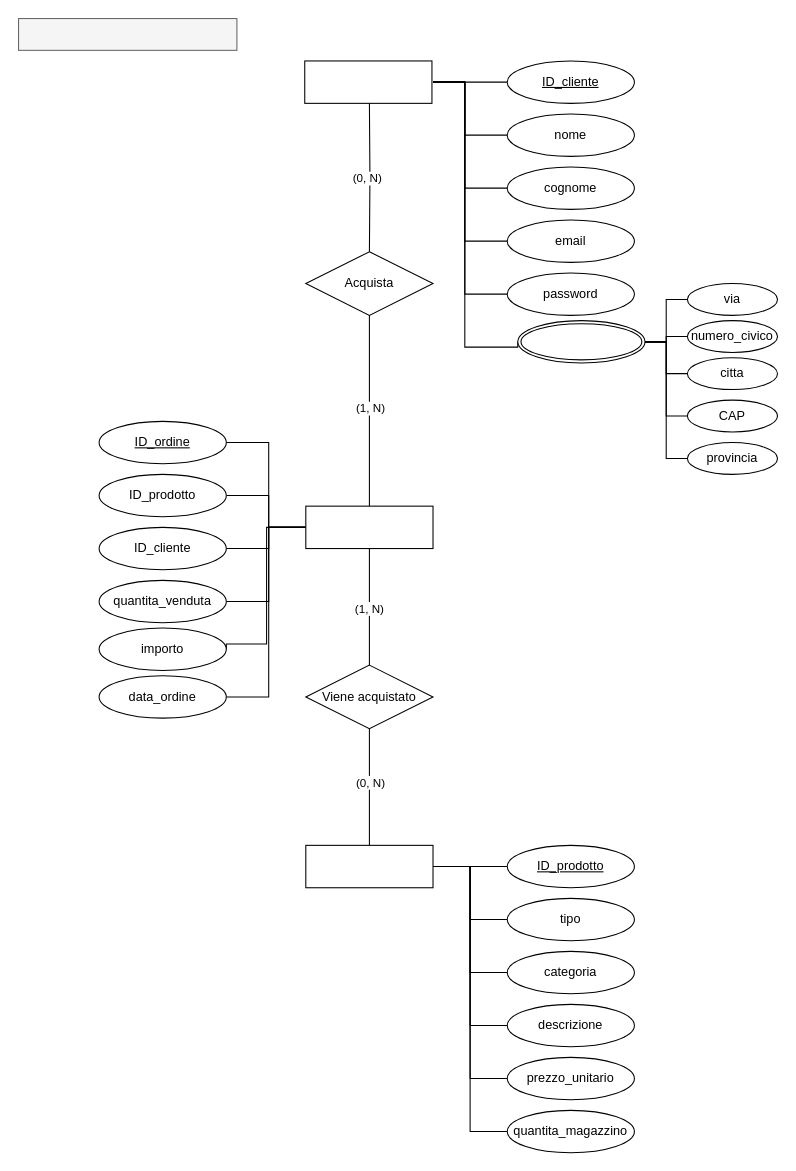
Image size: 796x1171. Some labels were removed from this diagram. Each missing label, with the centre of its shape:
"Cliente" belongs at point (368, 81).
"Gestione di un e-commerce" belongs at point (127, 33).
"indirizzo_consegna" belongs at point (581, 341).
"Ordine" belongs at point (369, 527).
"Prodotto" belongs at point (369, 866).
